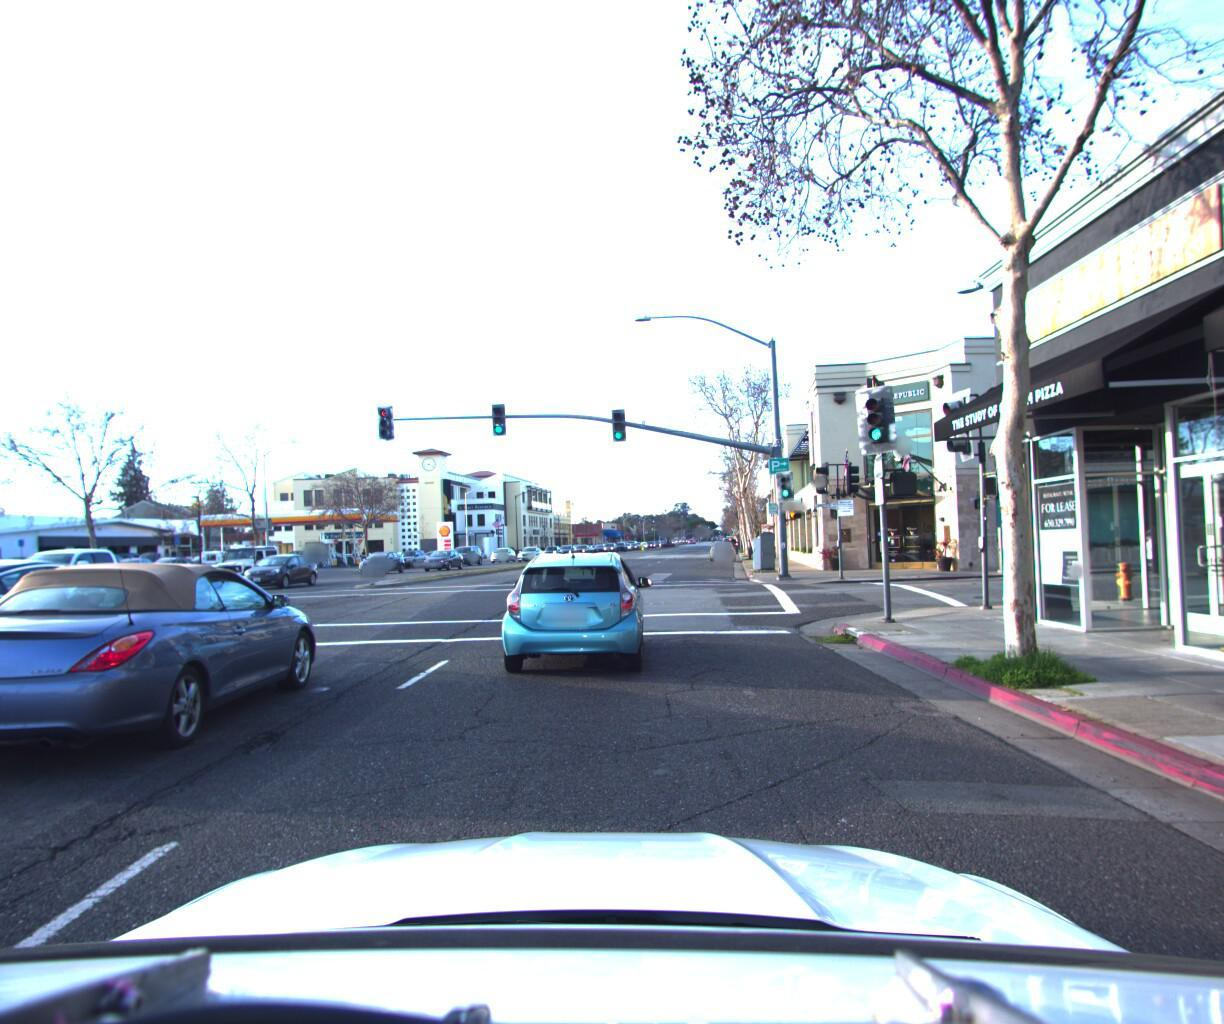car: (0, 551, 336, 806), (0, 546, 185, 707), (500, 539, 649, 681), (0, 542, 161, 619), (233, 546, 325, 589), (204, 540, 288, 586), (177, 545, 248, 580), (352, 543, 408, 571), (417, 545, 467, 571), (0, 557, 14, 634), (447, 540, 487, 564), (391, 545, 428, 567), (706, 535, 733, 559), (514, 540, 544, 556)
